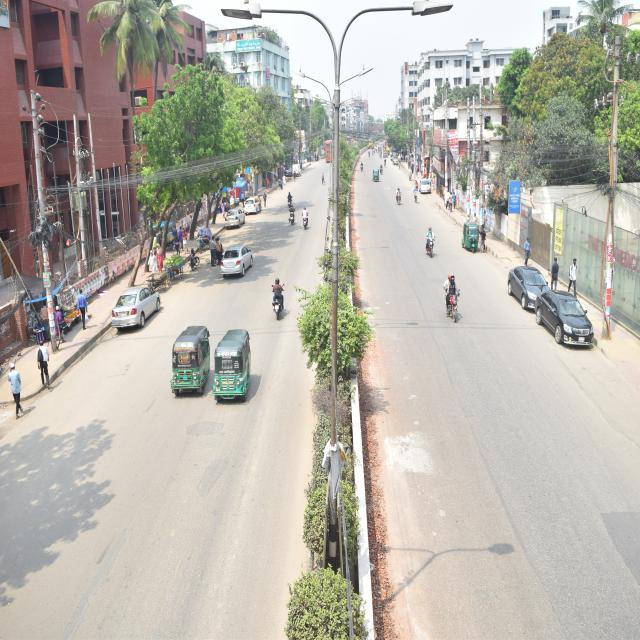bus: (316, 134, 340, 184)
car: (528, 276, 610, 358), (98, 271, 166, 343), (494, 251, 549, 320), (214, 236, 264, 298), (219, 194, 249, 247), (232, 178, 264, 227), (418, 170, 433, 204)
motorbike: (268, 261, 298, 354), (445, 271, 477, 344), (416, 209, 442, 267), (202, 216, 224, 276), (299, 198, 315, 253), (188, 237, 202, 295), (391, 175, 405, 219), (288, 202, 302, 244), (350, 154, 367, 179), (378, 157, 386, 182), (287, 186, 294, 213)
pickup-van: (286, 155, 309, 192)
